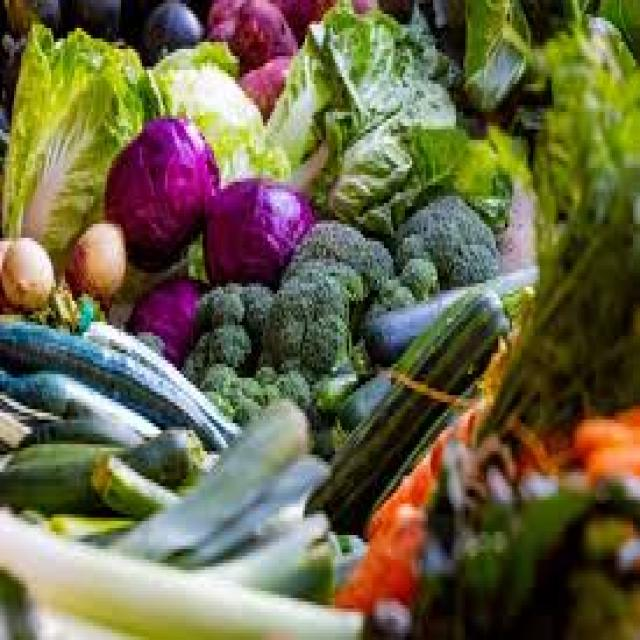food_waste: (15, 64, 625, 606)
